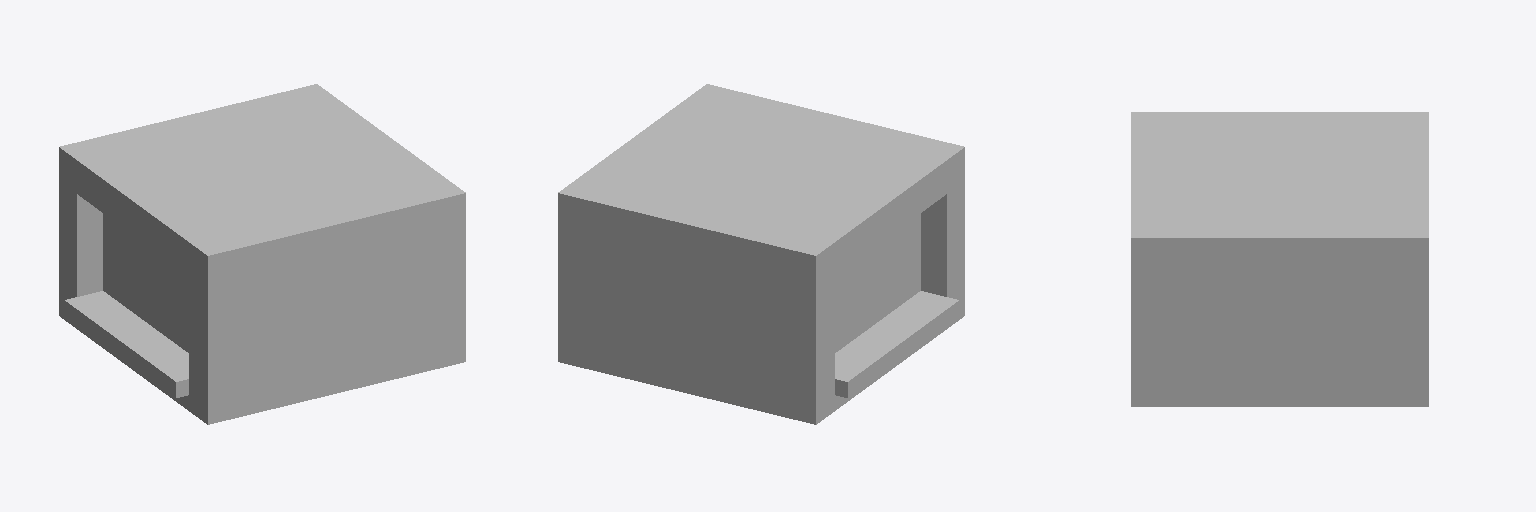
3 views of the same model, side by side, from view 1: azimuth 30°, elevation 25°; view 2: azimuth 150°, elevation 25°; view 3: azimuth 270°, elevation 25° (orthographic).
Parts seen in each view (by area): view 1: G-__555924_G-__555924_Brick, G-__555924_G-__555924_Glass; view 2: G-__555924_G-__555924_Brick, G-__555924_G-__555924_Glass; view 3: G-__555924_G-__555924_Brick.
Boxes of the visible parts, x1=… form: G-__555924_G-__555924_Brick: x1=59, y1=84, x2=465, y2=424; G-__555924_G-__555924_Glass: x1=103, y1=213, x2=188, y2=352; G-__555924_G-__555924_Brick: x1=558, y1=84, x2=964, y2=424; G-__555924_G-__555924_Glass: x1=835, y1=213, x2=920, y2=352; G-__555924_G-__555924_Brick: x1=1131, y1=112, x2=1428, y2=406.
Bounding box in the file's own units: 1.05 × 0.625 × 1.